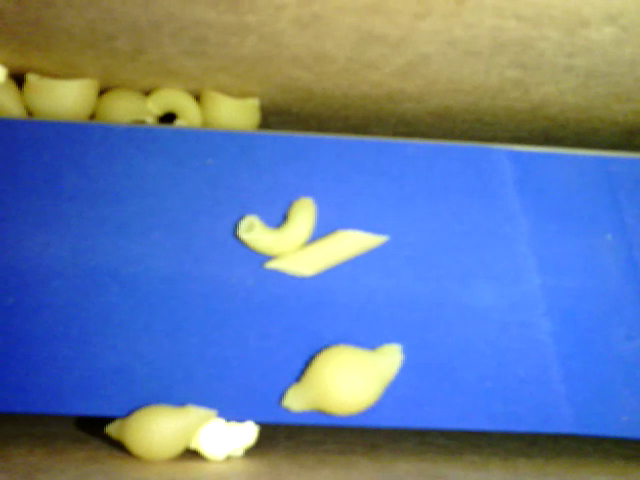elbow: (236, 196, 316, 256), (147, 86, 204, 130)
penne: (263, 226, 390, 280)
shell: (279, 341, 404, 415), (103, 403, 218, 462), (22, 71, 98, 121), (197, 86, 260, 130), (94, 87, 161, 126)
